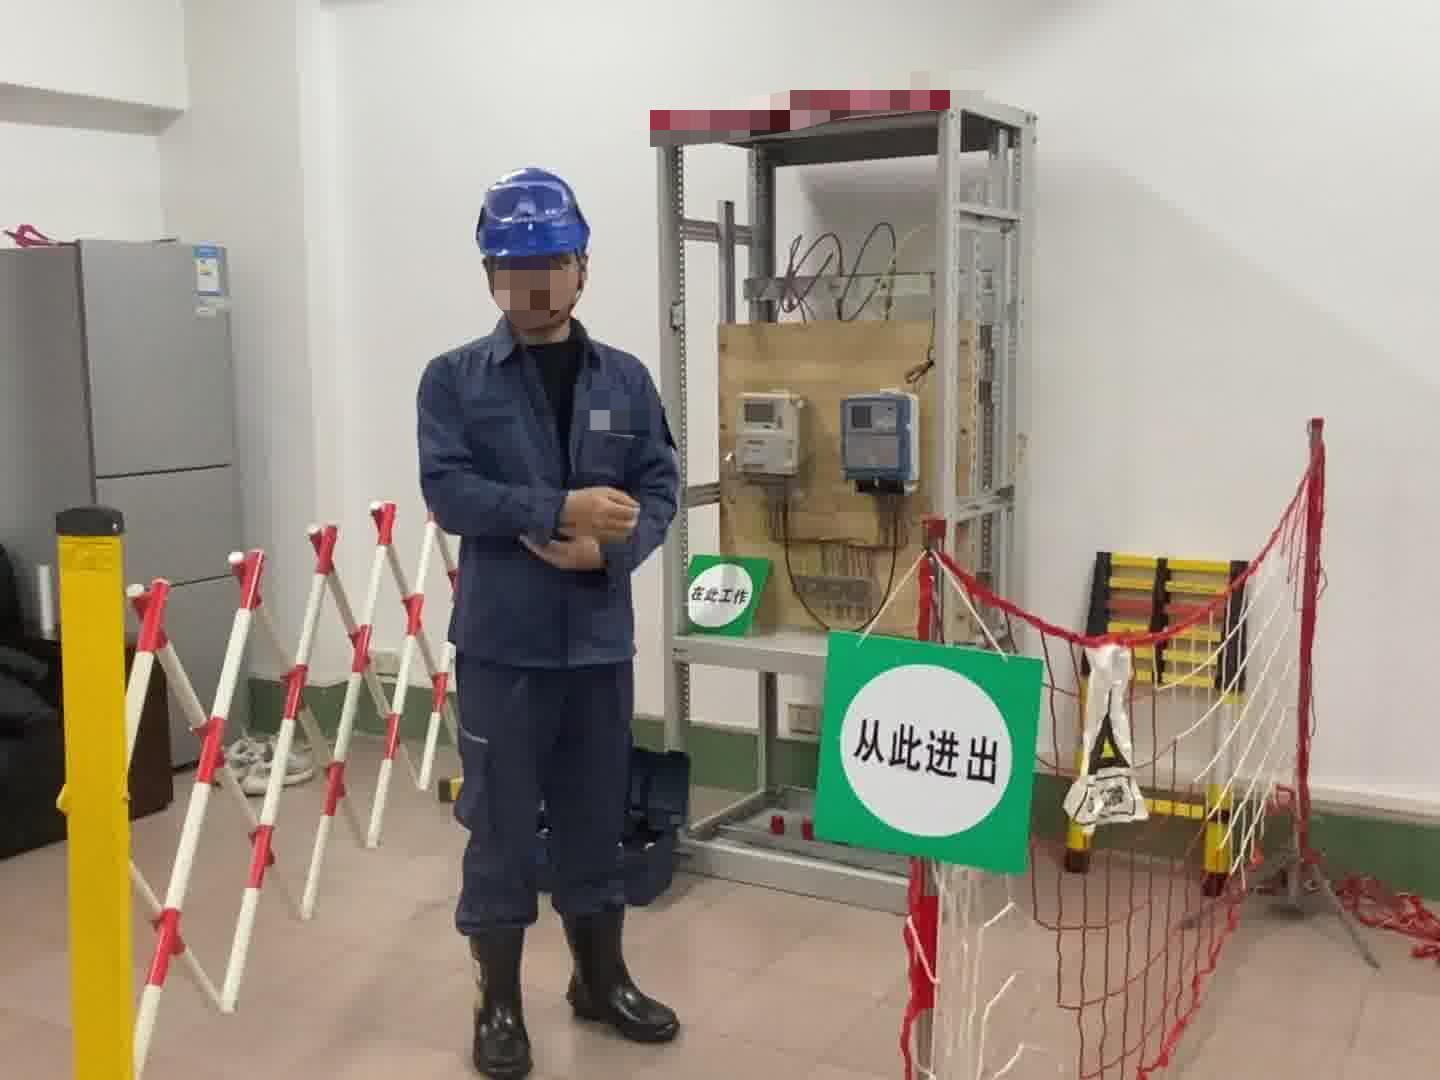halt: (474, 168, 601, 341)
